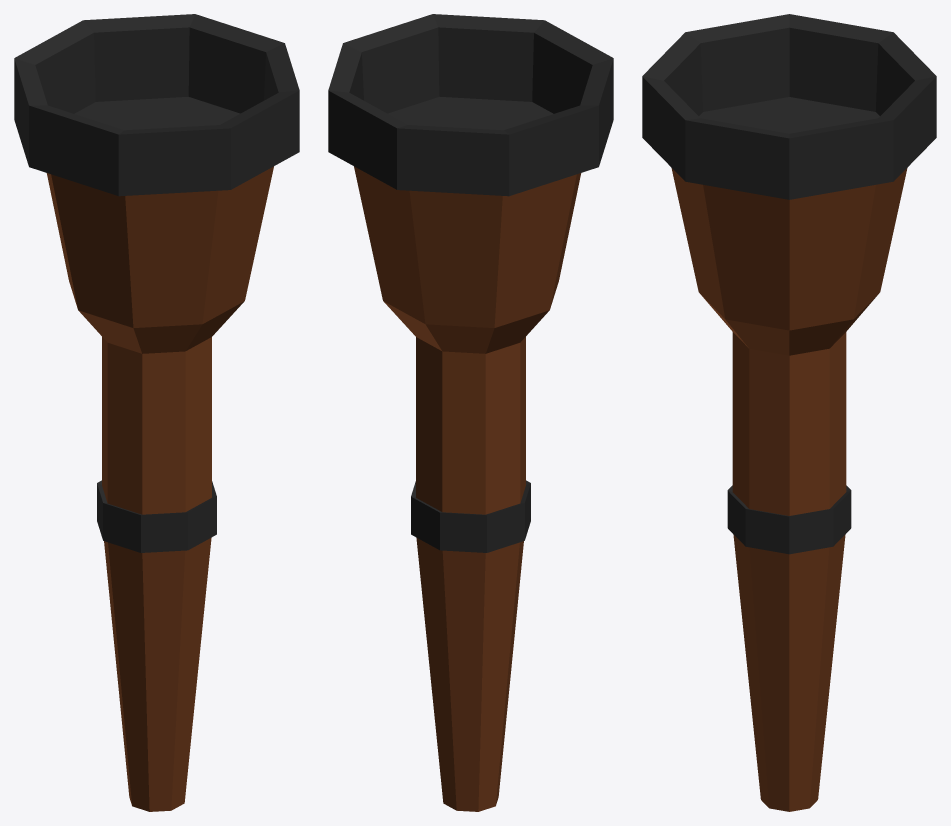
Rendered from torch.glb.
The picture shows the model from 3 angles, left to right: view 1: azimuth 30°, elevation 25°; view 2: azimuth 150°, elevation 25°; view 3: azimuth 270°, elevation 25°; orthographic projection.
Parts seen in each view (by area): view 1: Torch; view 2: Torch; view 3: Torch.
Part boxes in pixels (x1,y1,x2,y2): Torch: [14, 14, 299, 811]; Torch: [328, 14, 613, 811]; Torch: [642, 14, 936, 811].
Size of the model in its own units: 0.2575 by 0.6981 by 0.2575.
